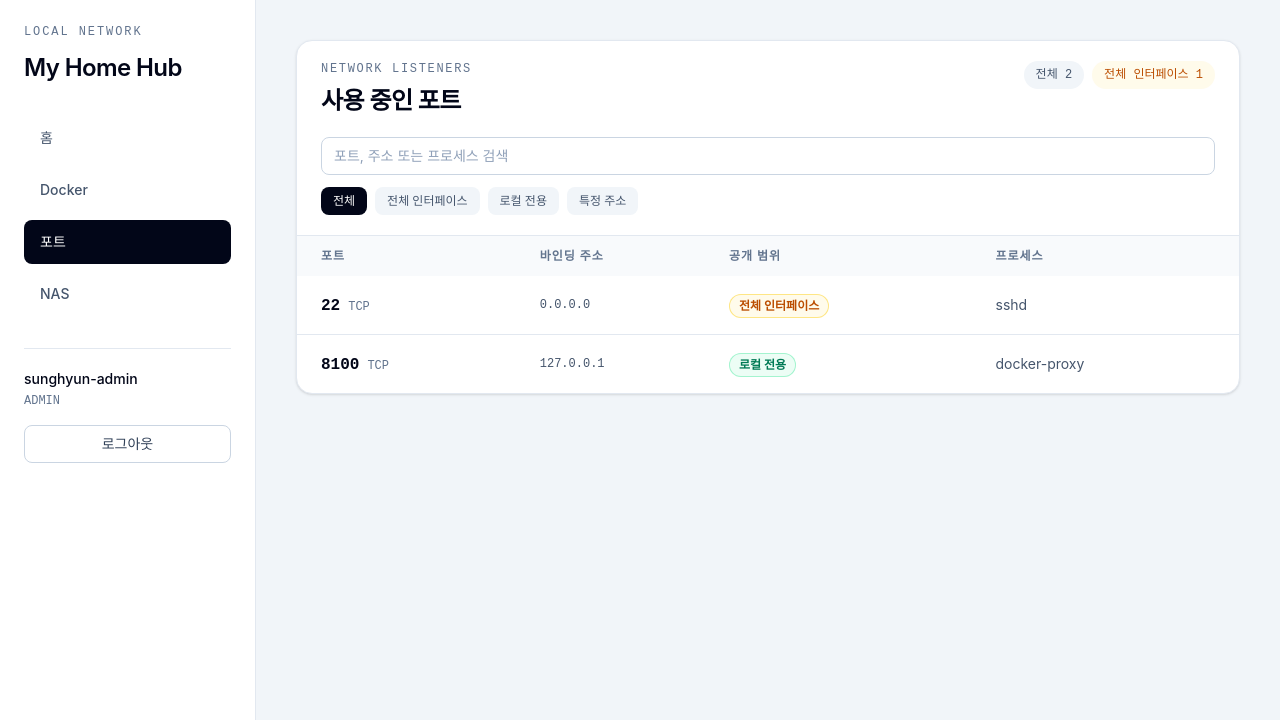
Test: App 포트 현황 › 공개 범위 필터로 포트 목록을 좁힌다
Expected: the text "sshd" is shown, [972,276,1239,334]
Click the button "로컬 전용" at (523, 201), box [488,187,559,215]
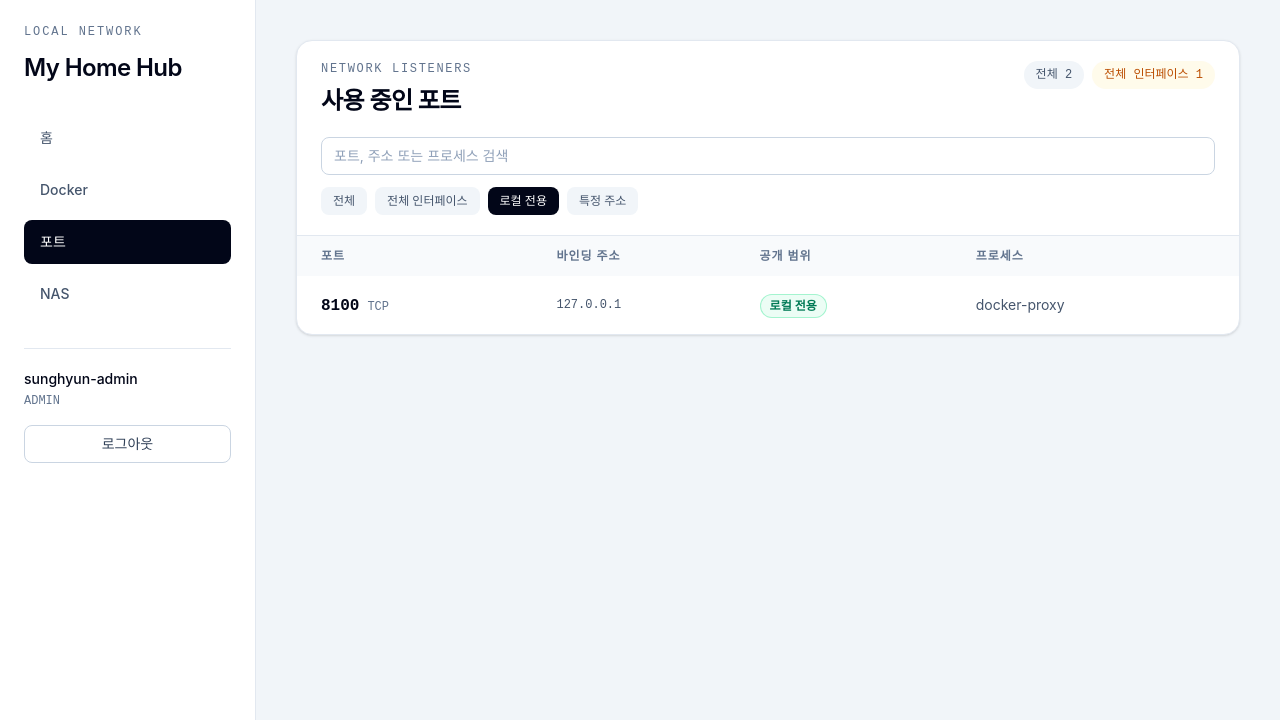
Expected: the text "docker-proxy" is shown, [952,276,1239,334]
Expected: the text "sshd" is gone
